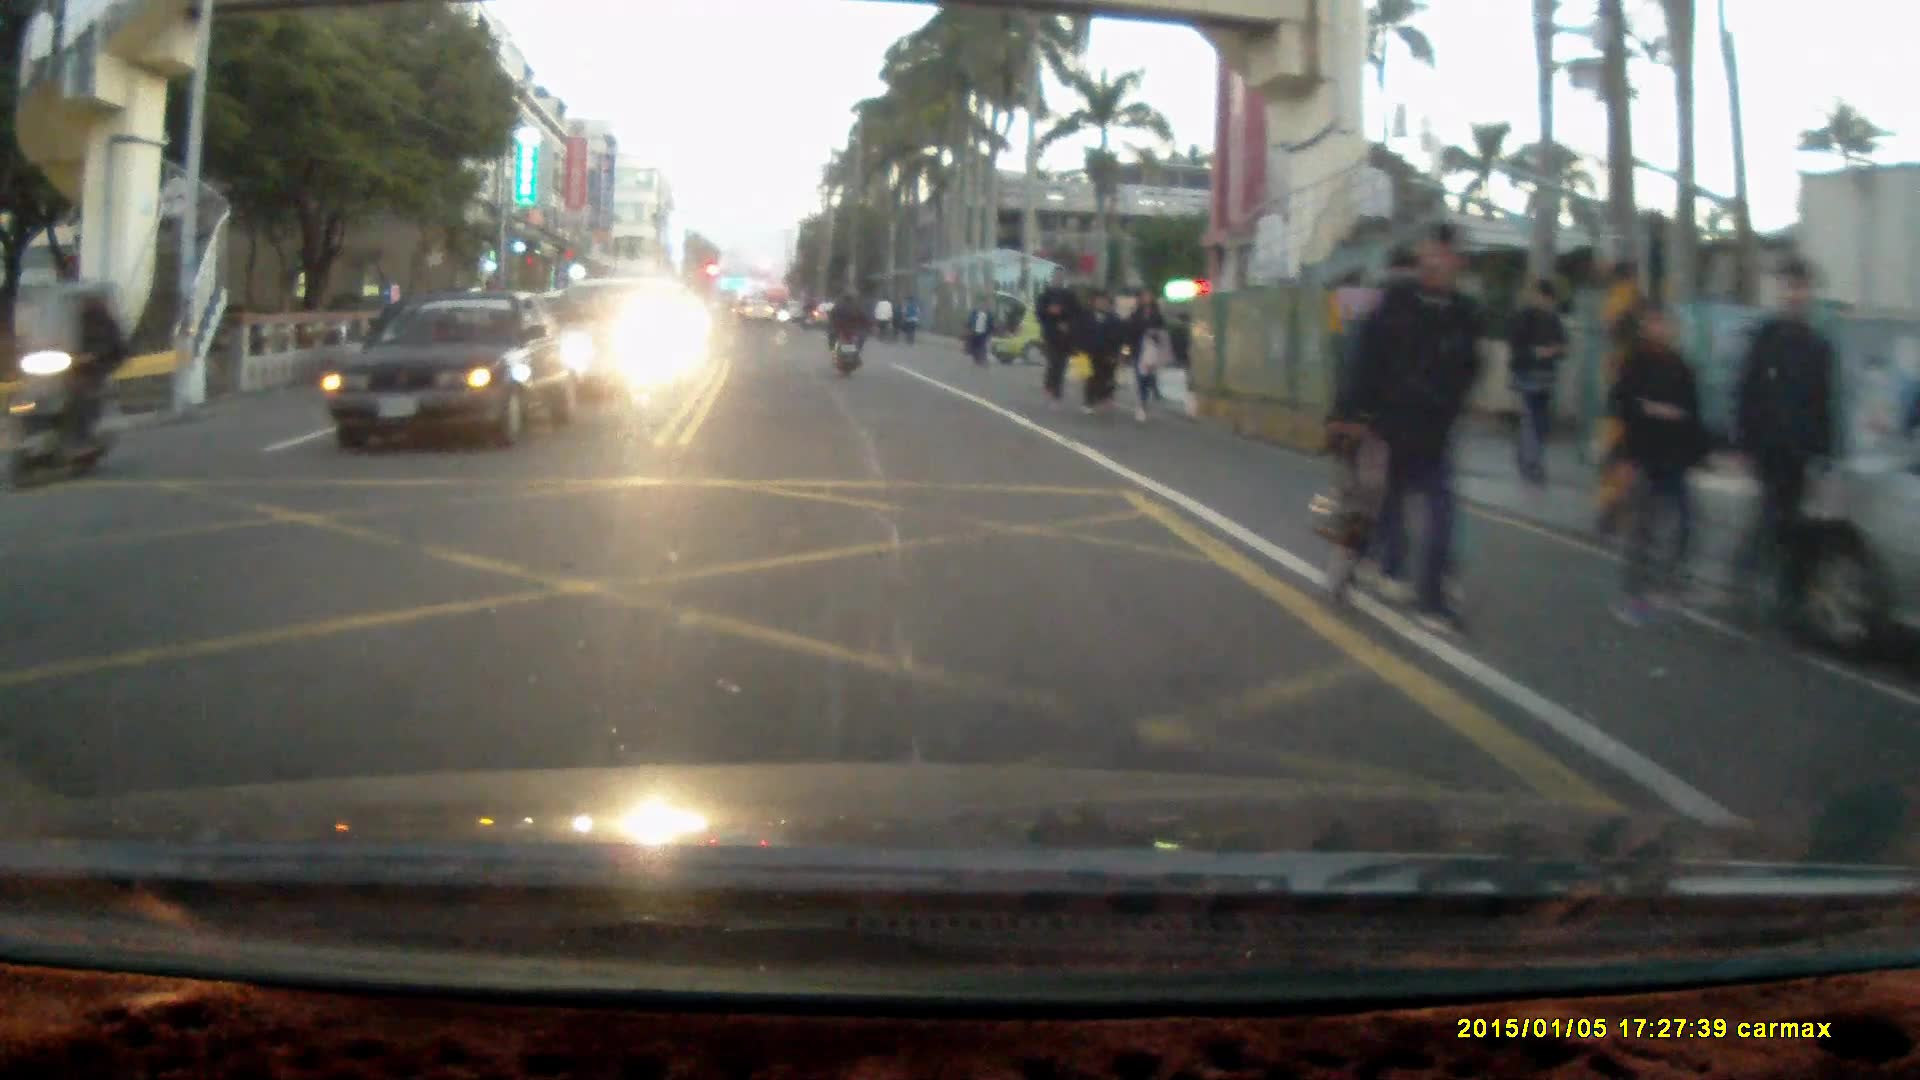pedestrian: (1354, 215, 1486, 646), (1614, 301, 1727, 652), (1732, 259, 1826, 657), (1506, 277, 1568, 494), (1120, 282, 1171, 418), (1032, 263, 1080, 408), (1076, 290, 1125, 414), (964, 294, 990, 368)
rider: (5, 275, 130, 493), (824, 286, 866, 379)
vehicle: (319, 297, 591, 452), (537, 277, 699, 402)
